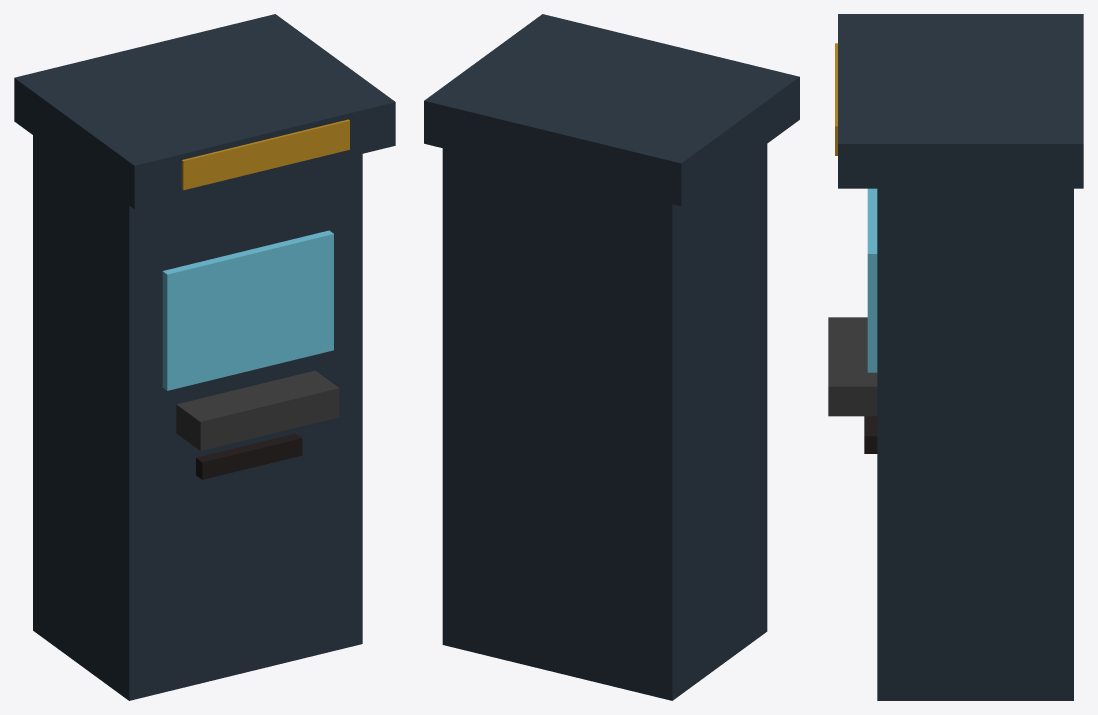
File: banque_distributeur.glb
3 views of the same model, side by side, from view 1: azimuth 30°, elevation 25°; view 2: azimuth 150°, elevation 25°; view 3: azimuth 270°, elevation 25° (orthographic). The views are drawn at different scales.
Parts seen in each view (by area): view 1: banque_distributeur; view 2: banque_distributeur; view 3: banque_distributeur.
Boxes of the visible parts, <box> form: banque_distributeur: <box>14,14,395,700</box>; banque_distributeur: <box>424,14,799,700</box>; banque_distributeur: <box>828,14,1083,700</box>.
Size of the model in its own units: 0.94 by 1.9 by 0.78.
